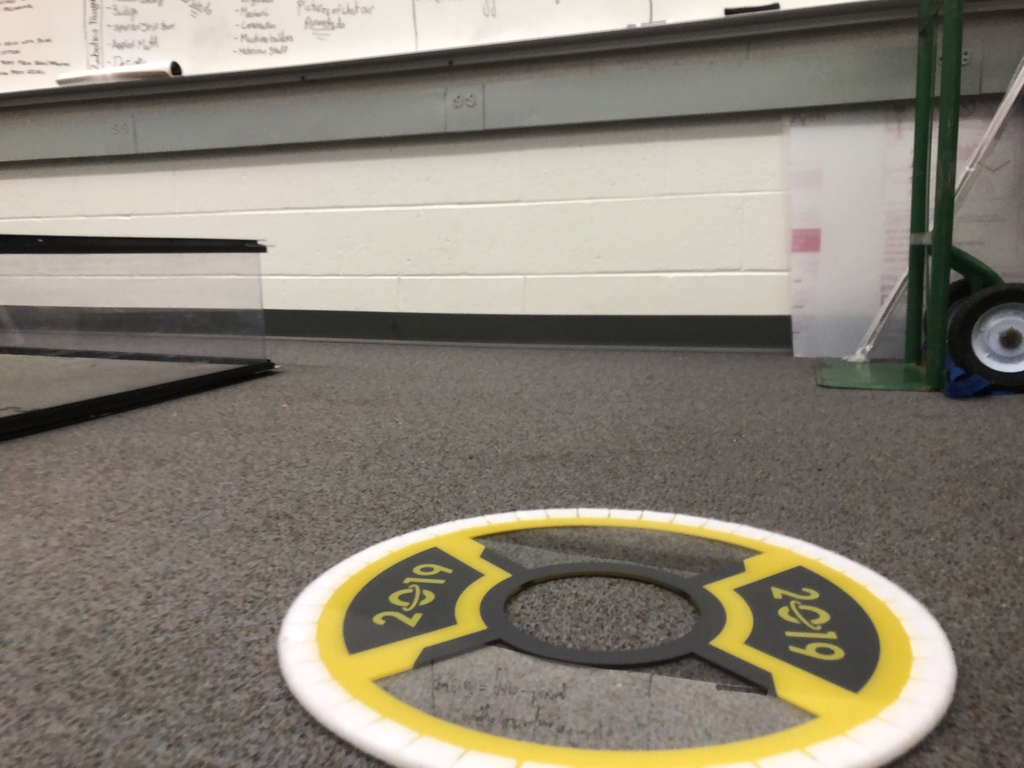hatch_panel: (273, 483, 989, 768)
